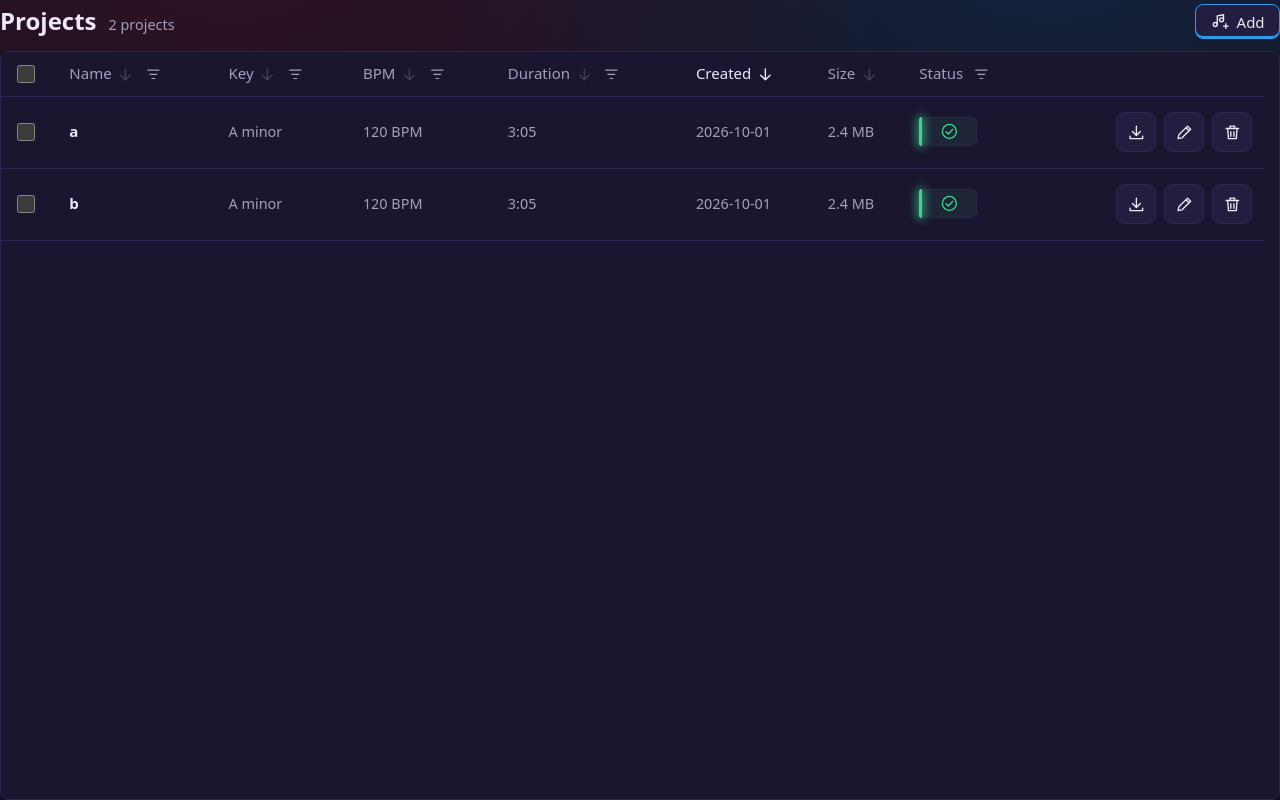
Test: Projects paging and reload › Clear inside the debounce window drops the typed text for good
expect the link "a" is shown: met, box [69,121,78,141]
Click the button named "Filter Name" at point(153, 74), box [139,60,167,88]
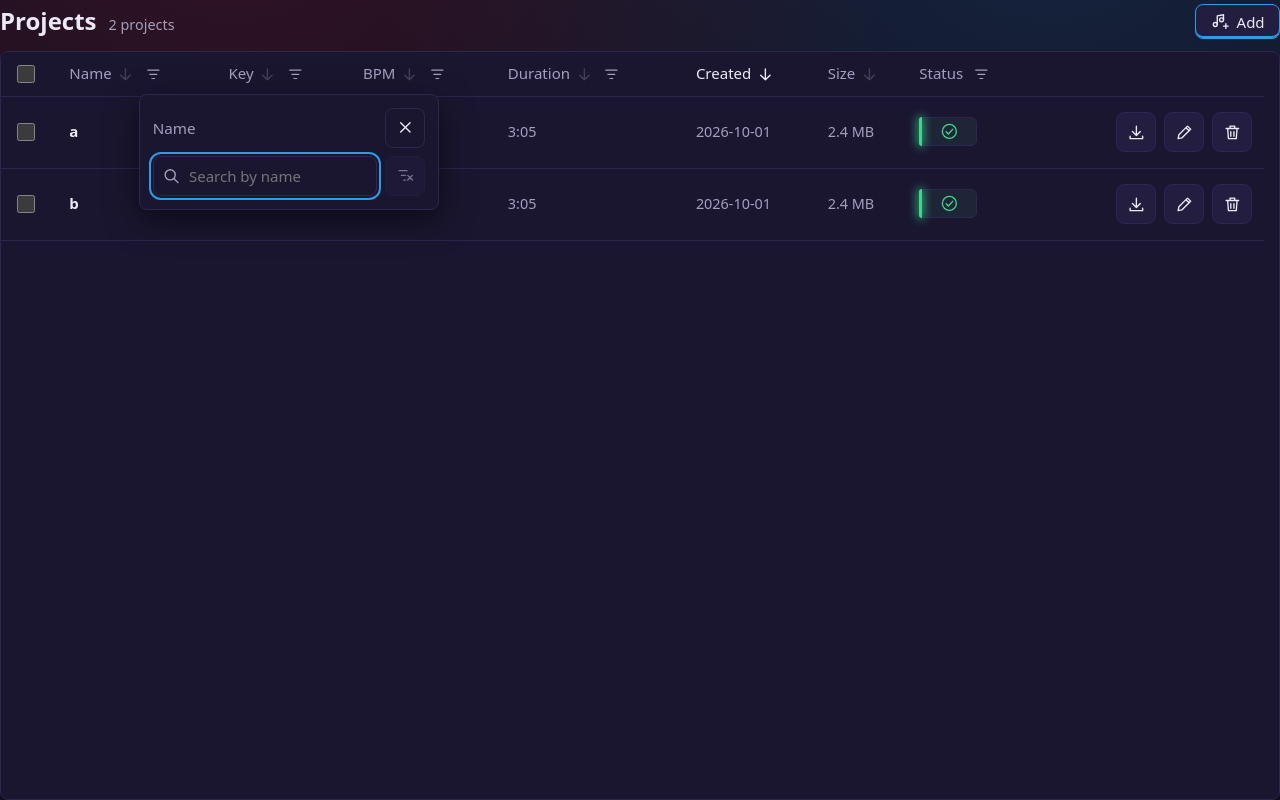
Type "ab" into the search field labelled "Search by name" at point(265, 176), box [153,156,377,196]
Wait 100 ms
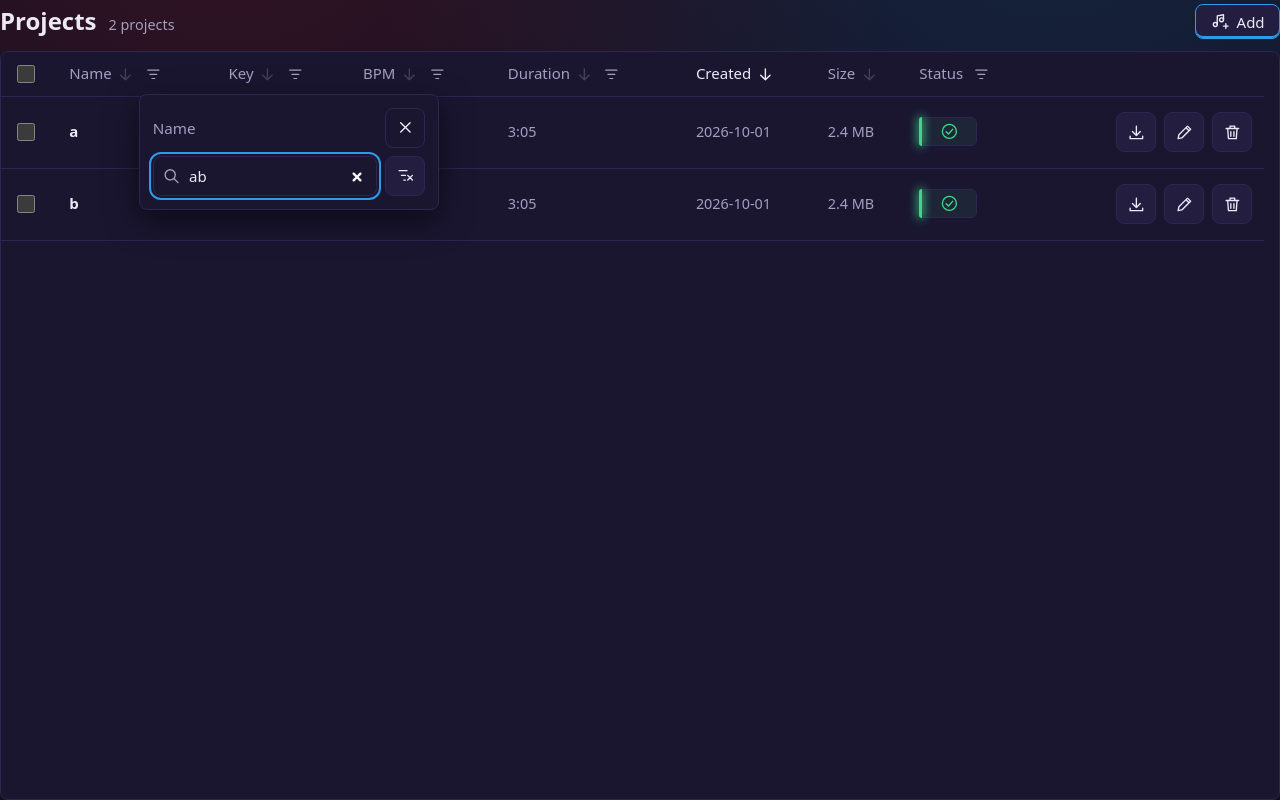
Click the button named "Clear Name filter" at point(405, 176), box [385,156,425,196]
Wait 600 ms
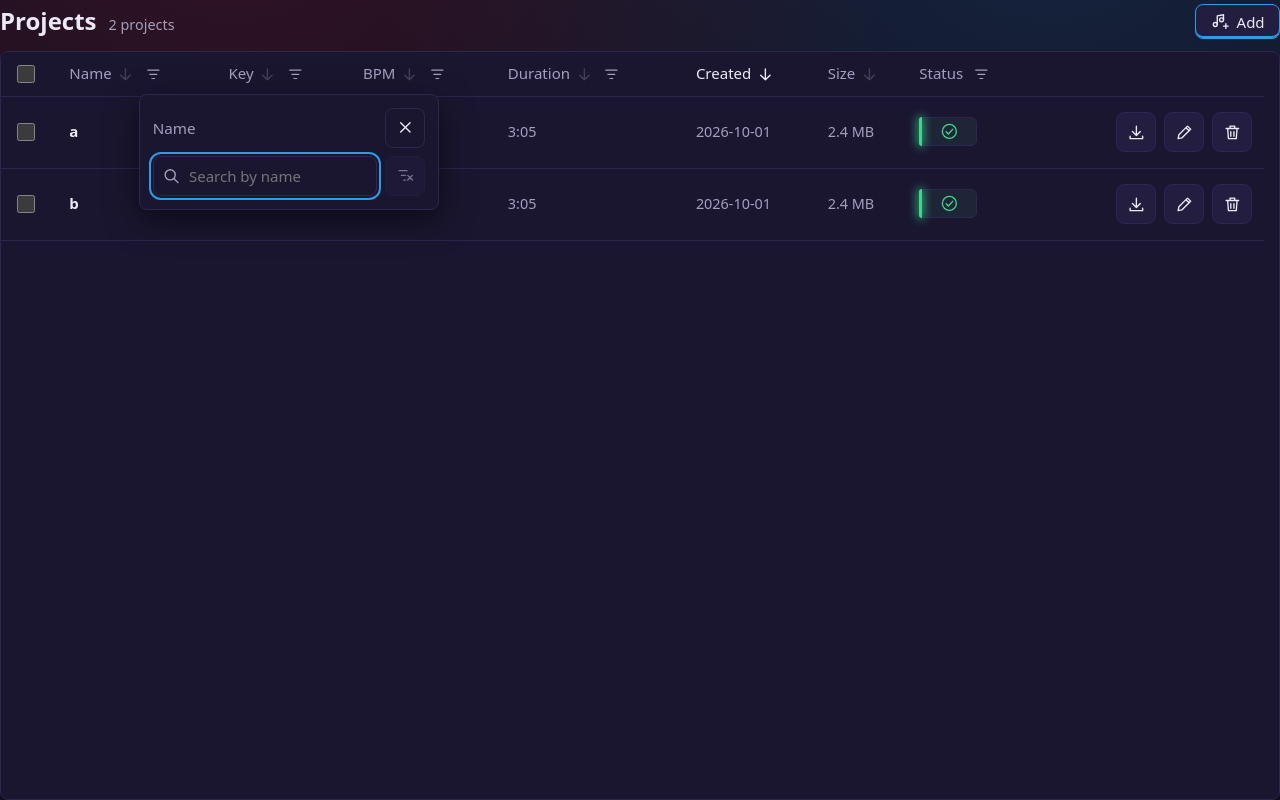
expect the search field labelled "Search by name" is empty: met, box [153,156,377,196]
